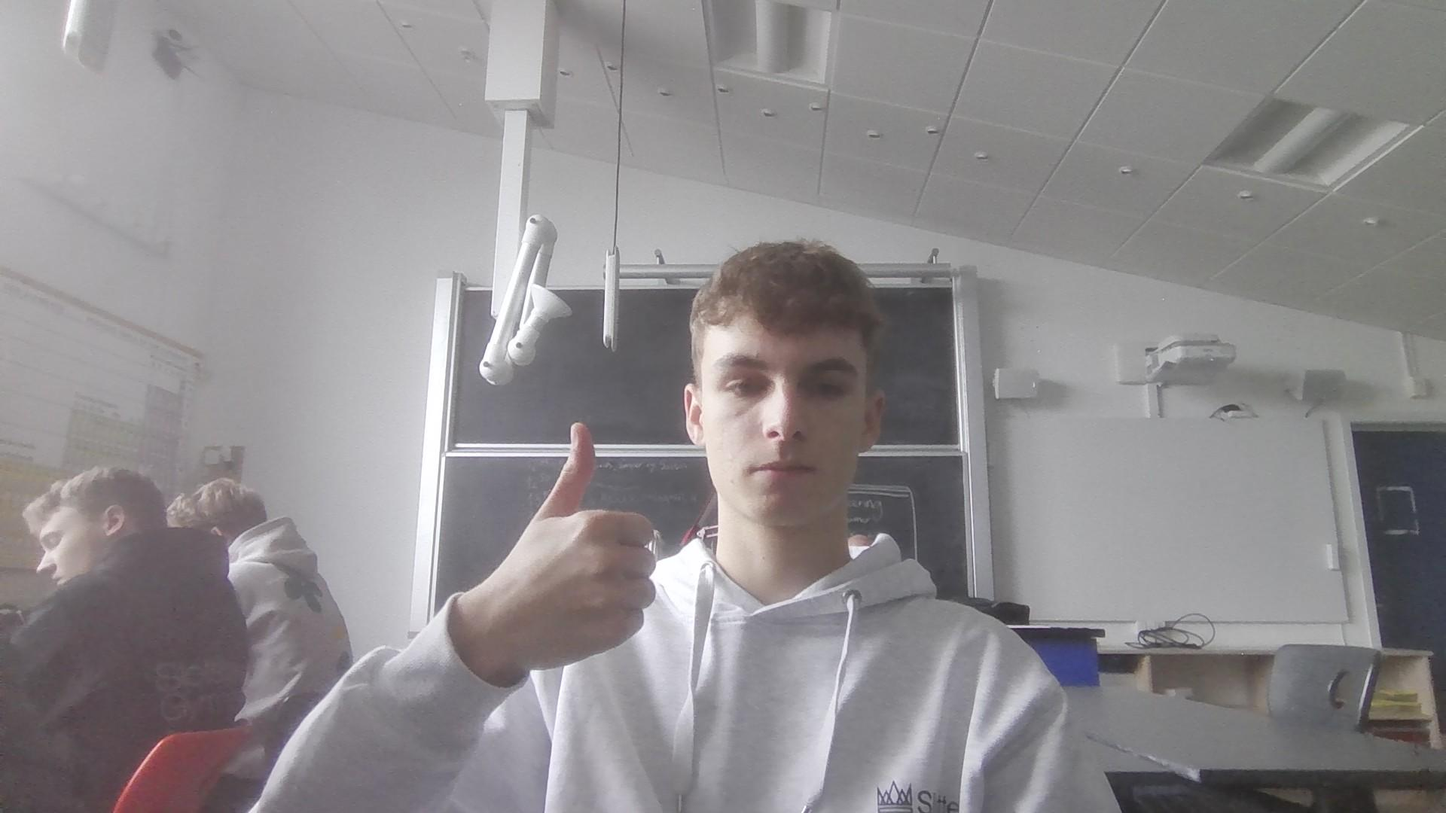thumbs up: (453, 415, 663, 694)
